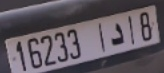1: (15, 41, 27, 72)
2: (39, 35, 56, 65)
3: (54, 33, 69, 62), (67, 29, 81, 60)
6: (27, 37, 43, 67)
8: (139, 11, 153, 41)
d: (107, 19, 126, 47)
